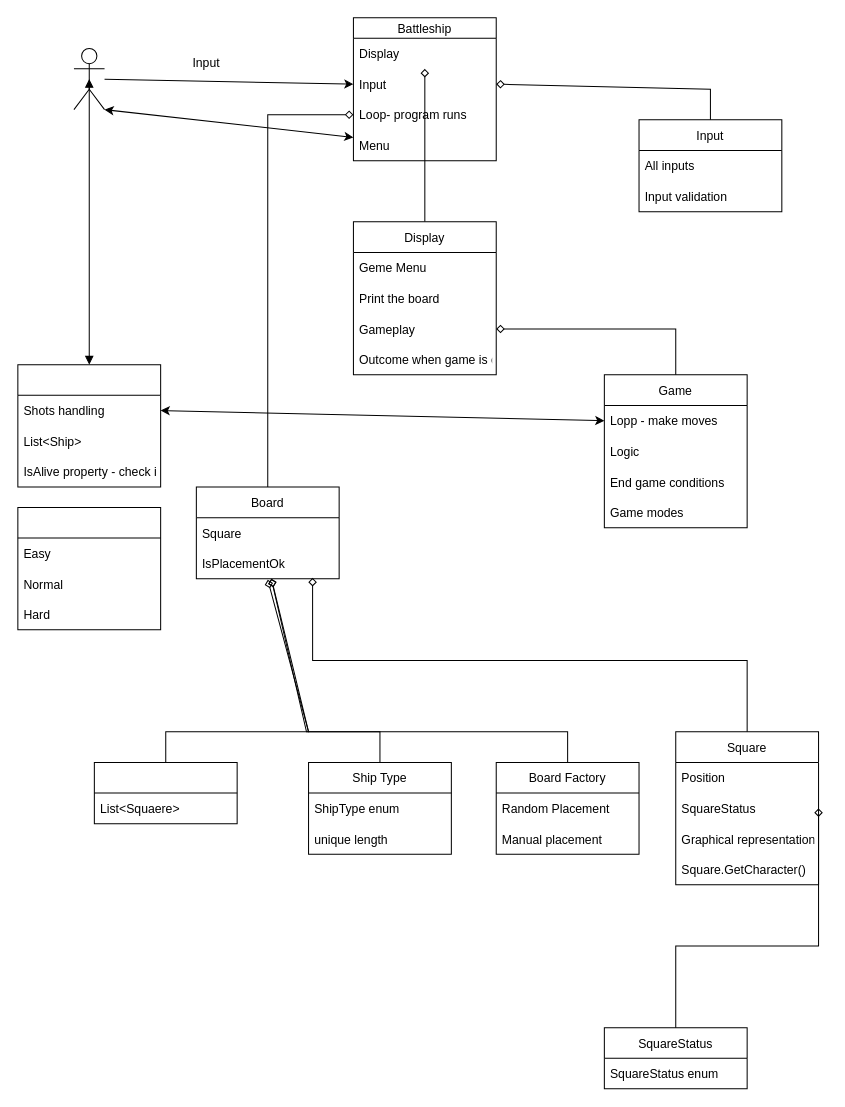
The diagram is 845 pixels wide and 1107 high, and some of its shapes have lost their labels. The box of each missing label's shape, as (x1, y1, x2, y2) in pixels:
Actor: (73, 47, 105, 110)
Computer Player *: (17, 506, 161, 630)
Player: (17, 364, 161, 487)
Ship: (93, 761, 237, 824)
